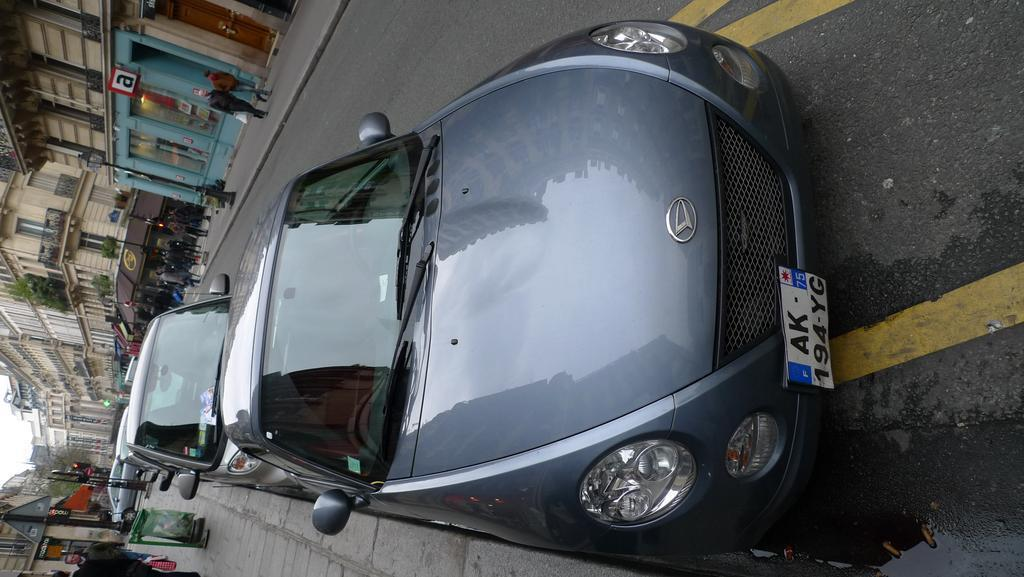bienso: (774, 270, 837, 392)
